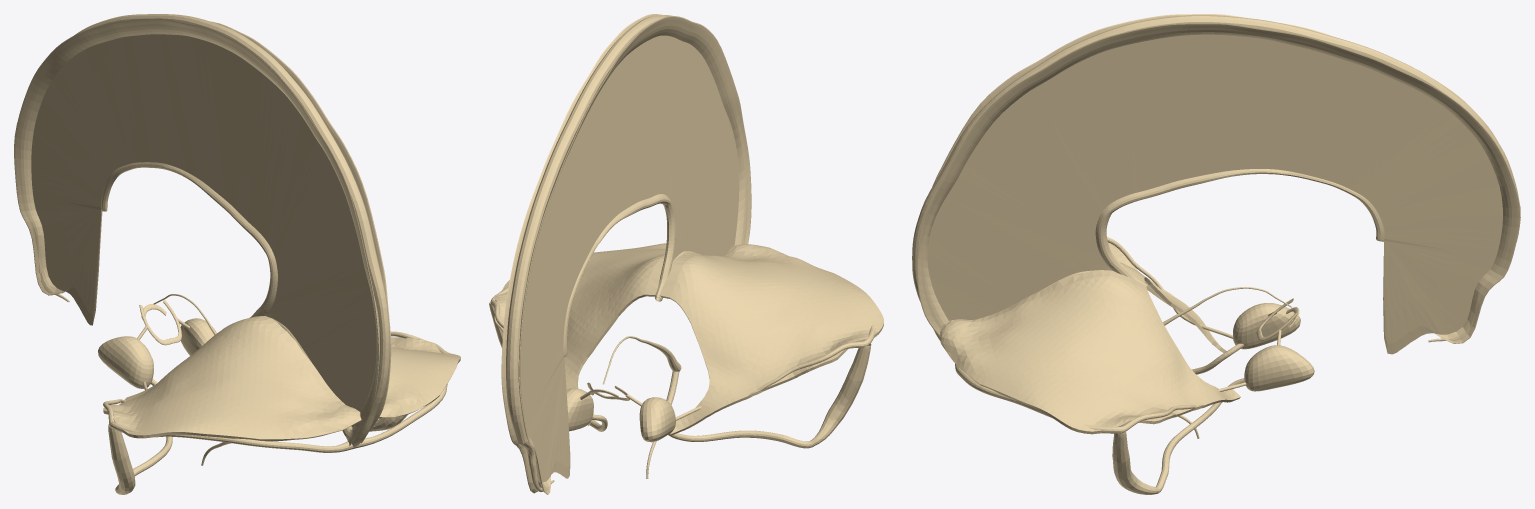
The model's file is folds-and-sinuses.glb.
3 views of the same model, side by side, from view 1: azimuth 30°, elevation 25°; view 2: azimuth 150°, elevation 25°; view 3: azimuth 270°, elevation 25° (orthographic).
Visible parts, largest first — view 1: ZA_Falx_cerebri, ZA_Tentorium_cerebellil, ZA_Superior_sagittal_sinus, ZA_Tentorium_cerebellir, ZA_Cavernous_sinusl, ZA_Transverse_sinusl, ZA_Sigmoid_sinusl, ZA_Cavernous_sinusr, ZA_Transverse_sinusr; view 2: ZA_Falx_cerebri, ZA_Tentorium_cerebellil, ZA_Tentorium_cerebellir, ZA_Superior_sagittal_sinus, ZA_Sigmoid_sinusl, ZA_Cavernous_sinusl, ZA_Inferior_petrosal_sinusl, ZA_Cavernous_sinusr, ZA_Superior_petrosal_sinusl, ZA_Straight_sinus; view 3: ZA_Falx_cerebri, ZA_Tentorium_cerebellir, ZA_Superior_sagittal_sinus, ZA_Cavernous_sinusr, ZA_Cavernous_sinusl, ZA_Tentorium_cerebellil, ZA_Sigmoid_sinusr, ZA_Inferior_petrosal_sinusr, ZA_Transverse_sinusr.
Boxes of the visible parts, <box> form: ZA_Falx_cerebri: <box>14,18,391,445</box>; ZA_Tentorium_cerebellil: <box>103,316,361,441</box>; ZA_Superior_sagittal_sinus: <box>56,14,389,447</box>; ZA_Tentorium_cerebellir: <box>378,337,460,418</box>; ZA_Cavernous_sinusl: <box>98,326,153,388</box>; ZA_Transverse_sinusl: <box>110,421,354,452</box>; ZA_Sigmoid_sinusl: <box>108,424,135,494</box>; ZA_Cavernous_sinusr: <box>177,318,216,355</box>; ZA_Transverse_sinusr: <box>354,342,456,448</box>; ZA_Falx_cerebri: <box>501,14,751,494</box>; ZA_Tentorium_cerebellil: <box>659,244,883,435</box>; ZA_Tentorium_cerebellir: <box>494,243,666,425</box>; ZA_Superior_sagittal_sinus: <box>506,15,672,491</box>; ZA_Sigmoid_sinusl: <box>810,343,871,445</box>; ZA_Cavernous_sinusl: <box>625,394,675,442</box>; ZA_Inferior_petrosal_sinusl: <box>668,430,813,448</box>; ZA_Cavernous_sinusr: <box>566,388,593,431</box>; ZA_Superior_petrosal_sinusl: <box>675,340,868,420</box>; ZA_Straight_sinus: <box>603,336,681,384</box>; ZA_Falx_cerebri: <box>917,14,1520,354</box>; ZA_Tentorium_cerebellir: <box>940,270,1240,434</box>; ZA_Superior_sagittal_sinus: <box>912,15,1518,342</box>; ZA_Cavernous_sinusr: <box>1244,330,1314,391</box>; ZA_Cavernous_sinusl: <box>1233,303,1300,349</box>; ZA_Tentorium_cerebellil: <box>1108,243,1226,352</box>; ZA_Sigmoid_sinusr: <box>1112,431,1158,494</box>; ZA_Inferior_petrosal_sinusr: <box>1156,378,1244,493</box>; ZA_Transverse_sinusr: <box>955,364,1121,433</box>.
Bounding box in the file's own units: 114 × 132 × 167.
